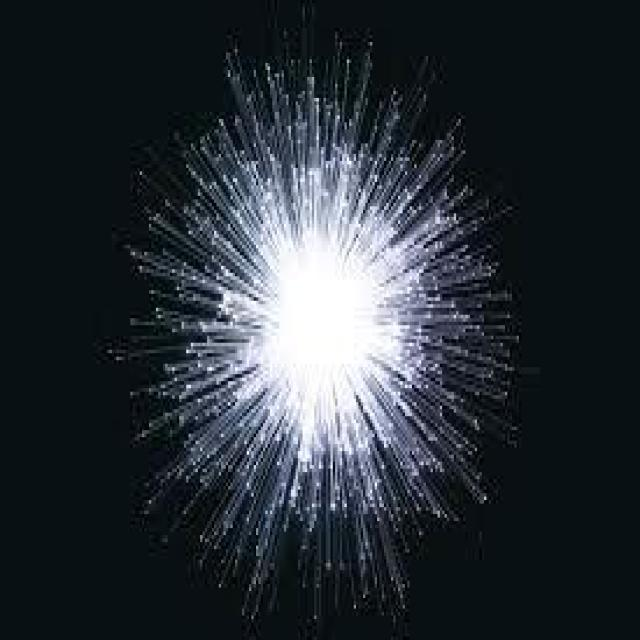other: (213, 192, 424, 441)
